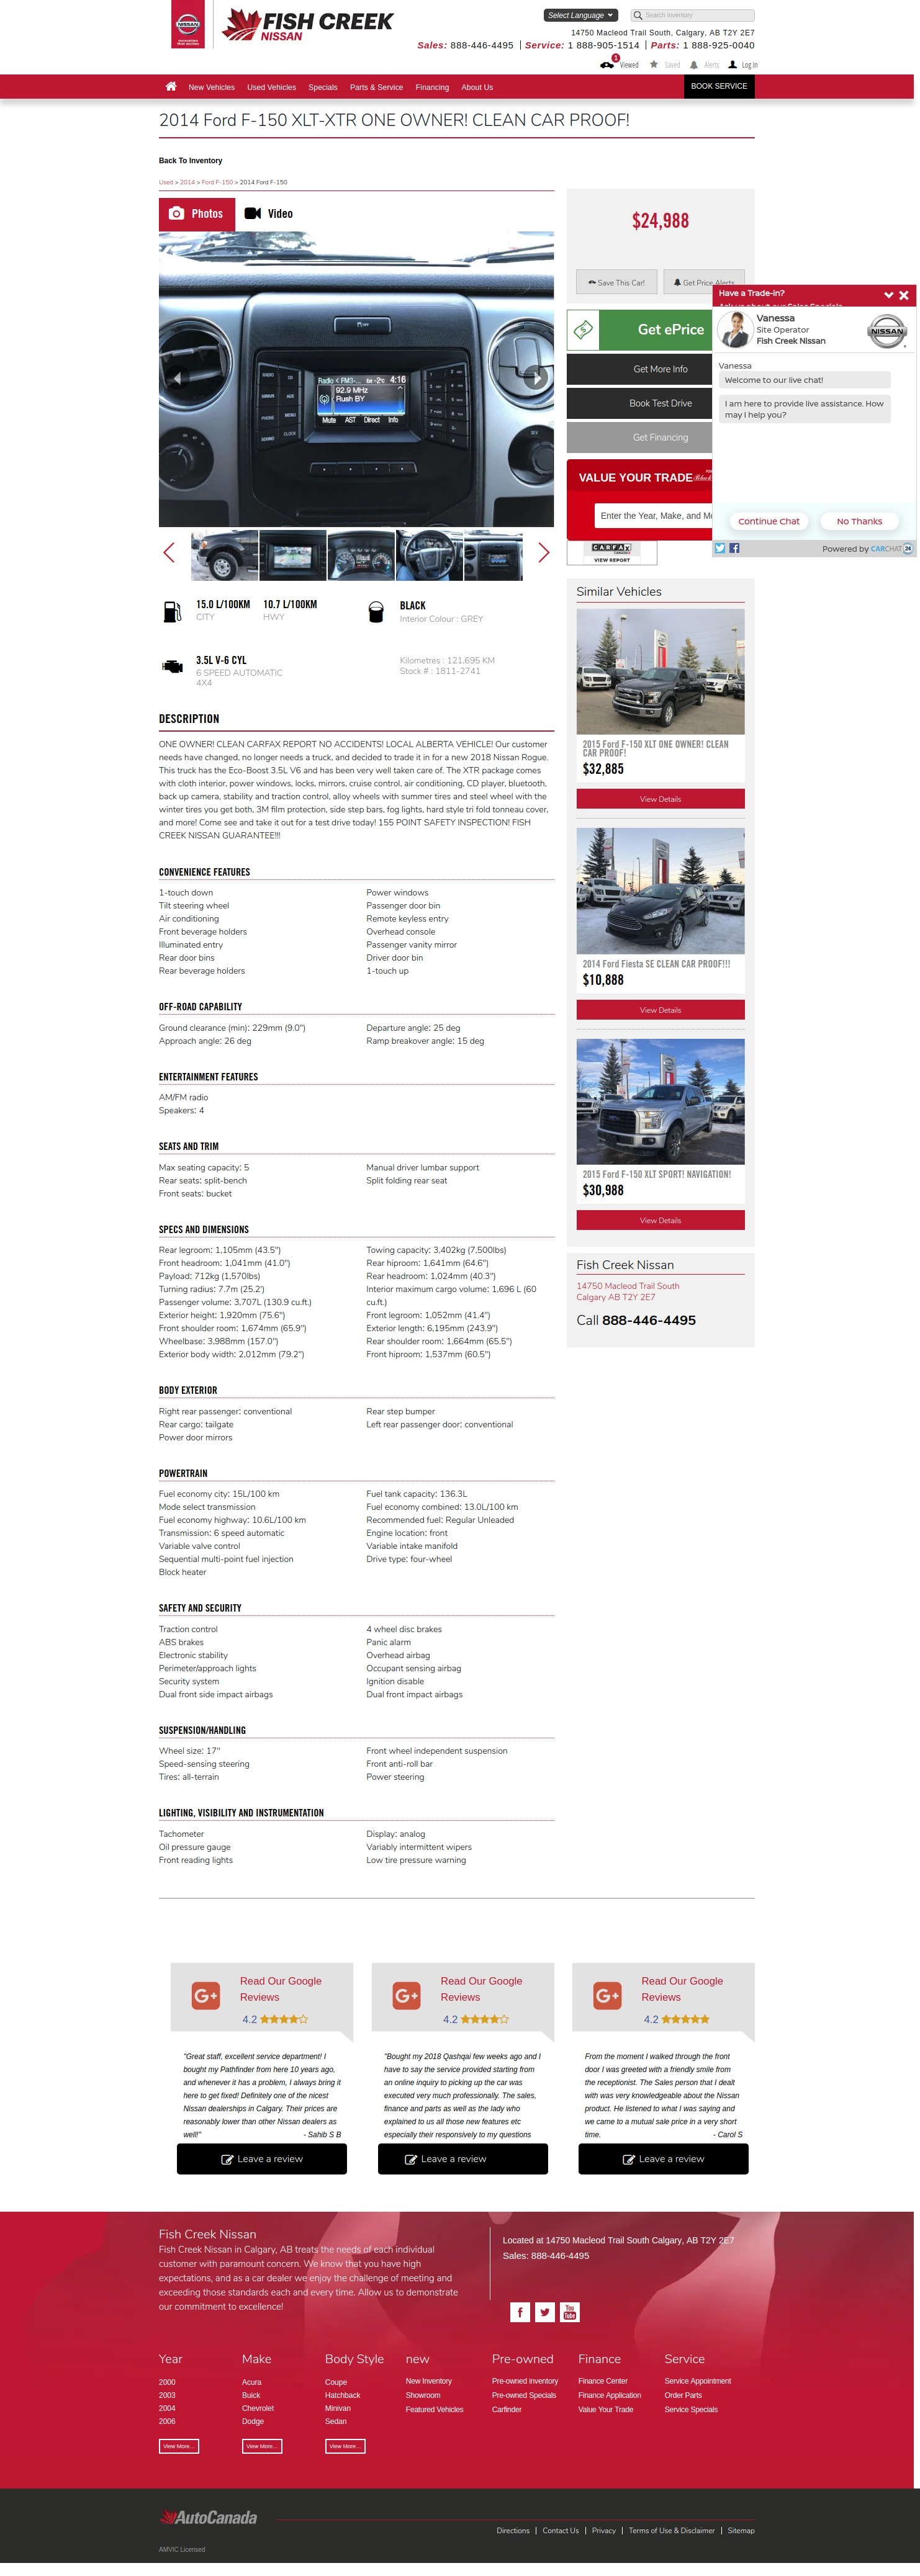car: (539, 542, 550, 563)
